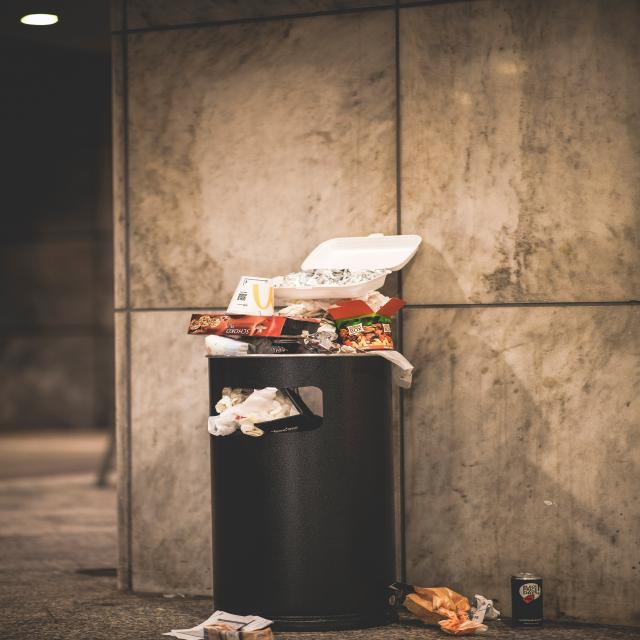paper: (206, 393, 272, 434)
plastic: (252, 269, 388, 349)
